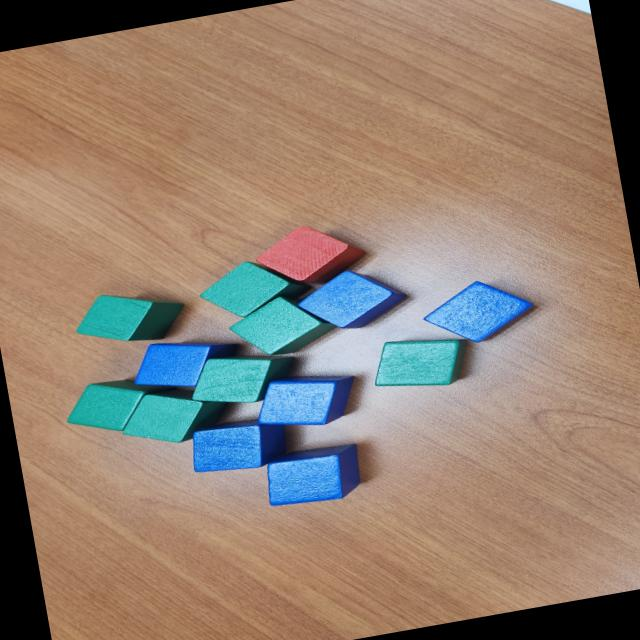blue: (418, 272, 540, 352), (292, 260, 412, 337), (246, 364, 362, 437), (126, 329, 244, 398), (260, 439, 366, 509), (285, 319, 393, 387), (185, 412, 292, 478), (210, 395, 271, 428)
green: (192, 248, 316, 324), (70, 280, 190, 354), (224, 286, 340, 362), (112, 380, 234, 452), (60, 368, 180, 441), (184, 343, 300, 413), (366, 327, 475, 397)
red: (249, 217, 370, 296)
